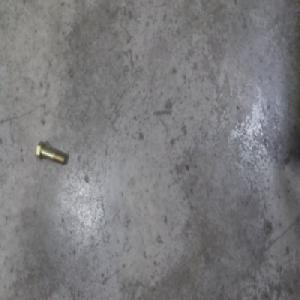Bolt: (36, 140, 66, 168)
